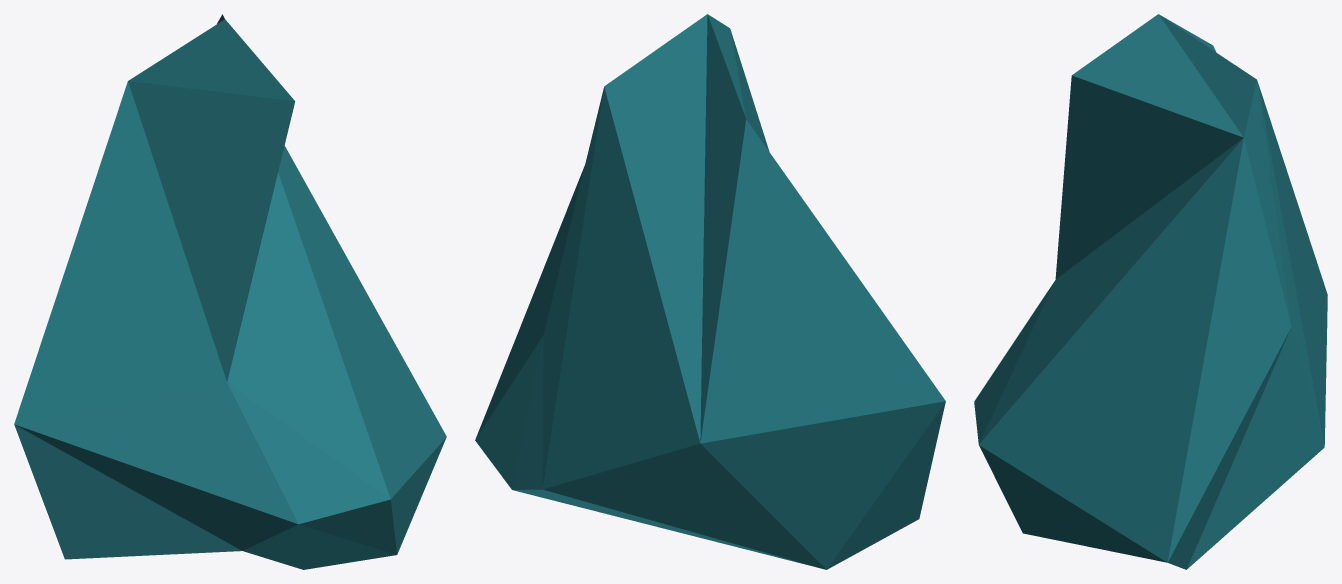
Rendered from Largest_iceRock.fbx.
The picture shows the model from 3 angles, left to right: view 1: azimuth 30°, elevation 25°; view 2: azimuth 150°, elevation 25°; view 3: azimuth 270°, elevation 25°; orthographic projection. The views are drawn at different scales.
Parts seen in each view (by area): view 1: pSolid5; view 2: pSolid5; view 3: pSolid5.
Part boxes in pixels (x1,y1,x2,y2): pSolid5: [14, 14, 446, 569]; pSolid5: [475, 14, 945, 569]; pSolid5: [974, 14, 1327, 569].
Bounding box in the file's own units: 150 × 164 × 109.
